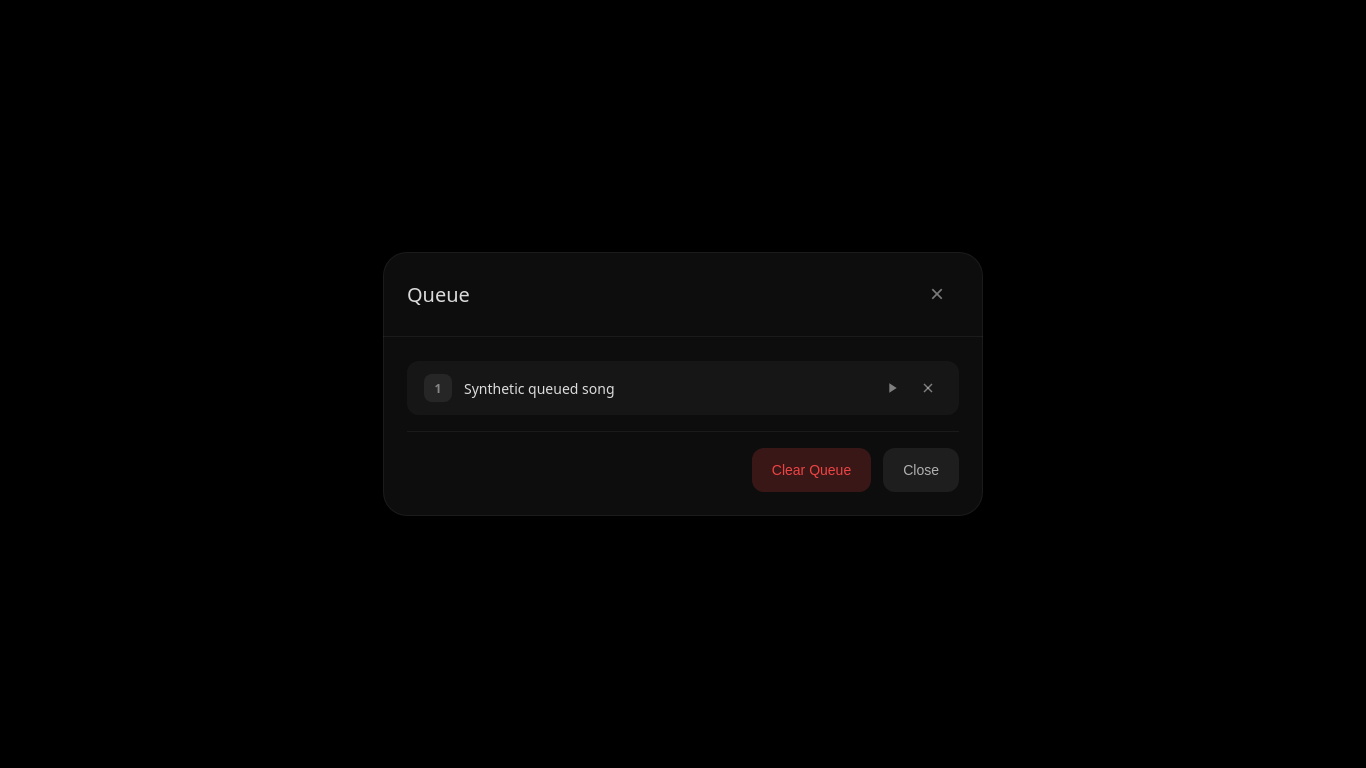
Scenario: Actual serialized Queue route envelopes through apiFetch and QueueModal › keeps actual non2xx clear refusal visible
This screenshot has width=1366, height=768.
Click the button "Clear Queue".
click(812, 470)  # box top-left (752, 448), bottom-right (871, 492)
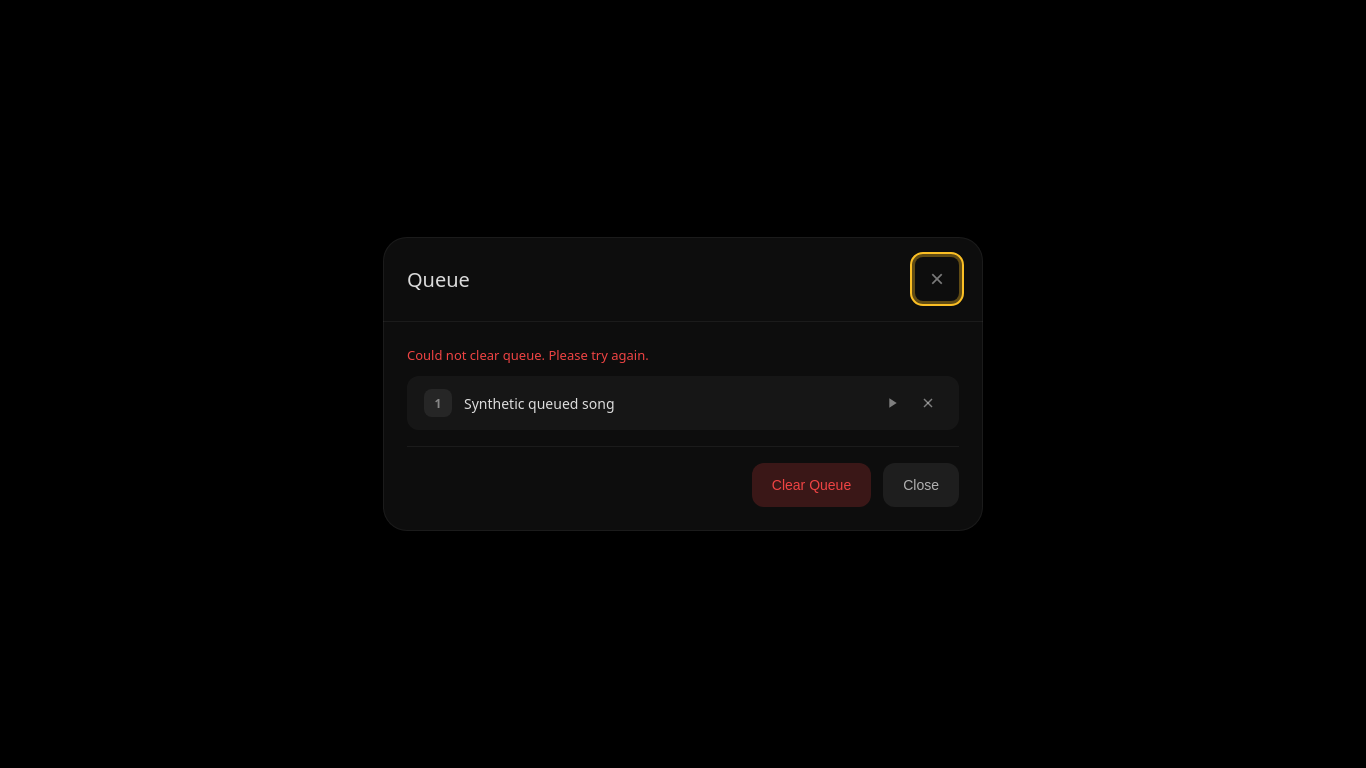
Check: the text "Synthetic queued song" is shown, box top-left (464, 394), bottom-right (614, 412)
Check: the message reads "Could not clear queue. Please try again.", box top-left (407, 346), bottom-right (649, 364)
